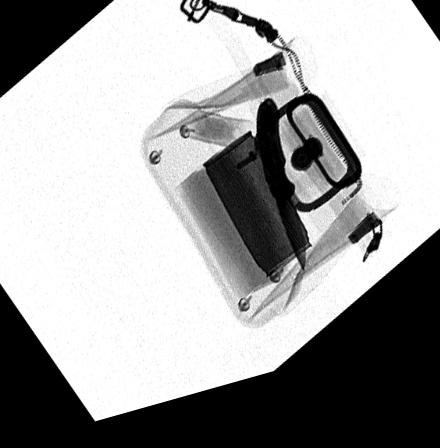Knife: (254, 110, 306, 291)
